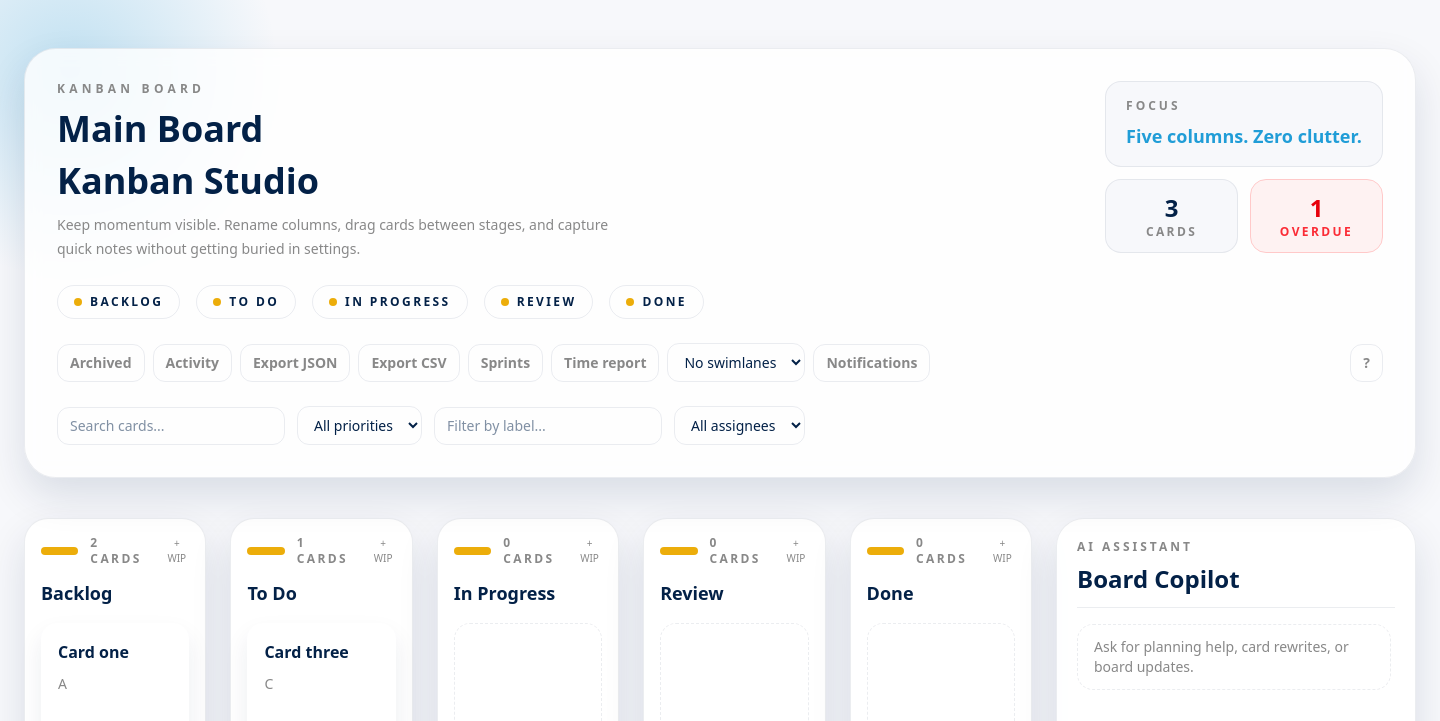
Test: KanbanBoard › shows validation error when column title is cleared
The width and height of the screenshot is (1440, 721).
Clear the 1st field named "Column title" at (115, 593), box x1=41 y1=579 x2=189 y2=607
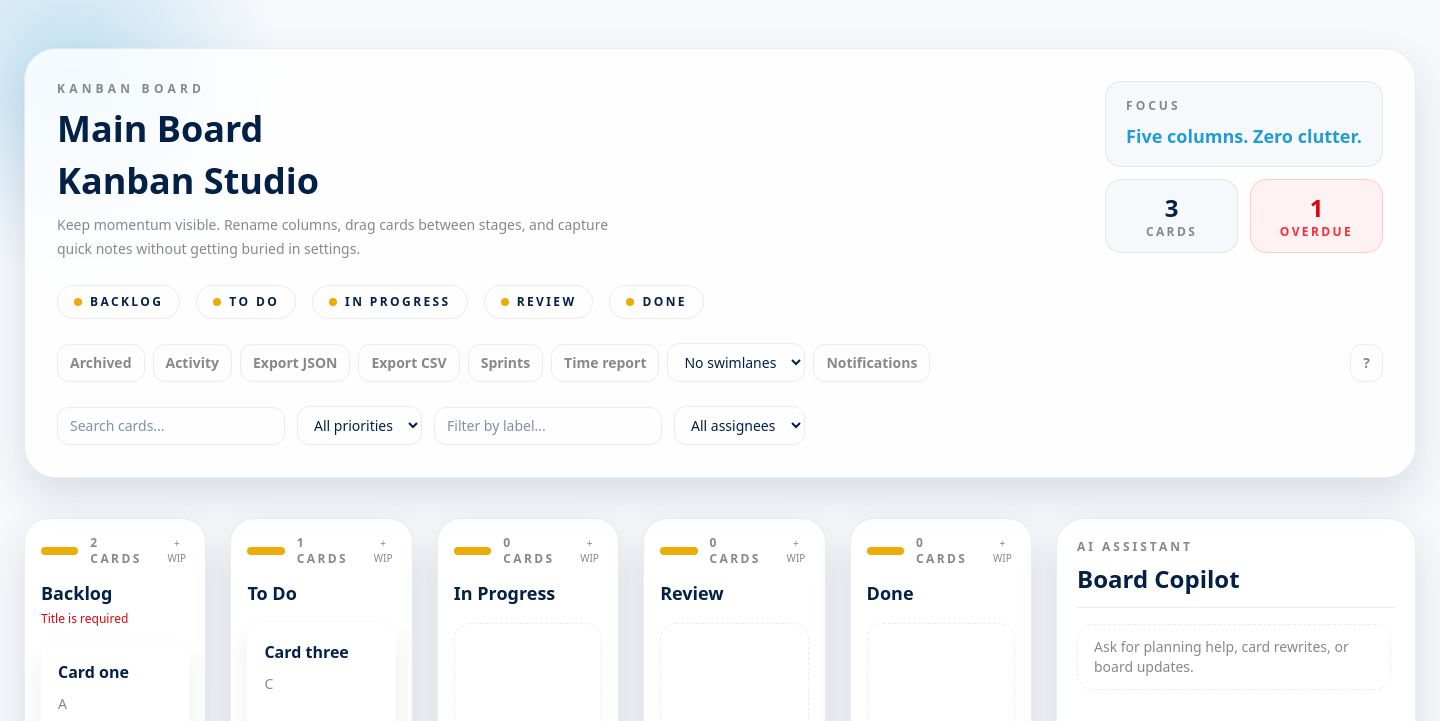
Now the text "Title is required" is shown, box x1=41 y1=610 x2=128 y2=627
